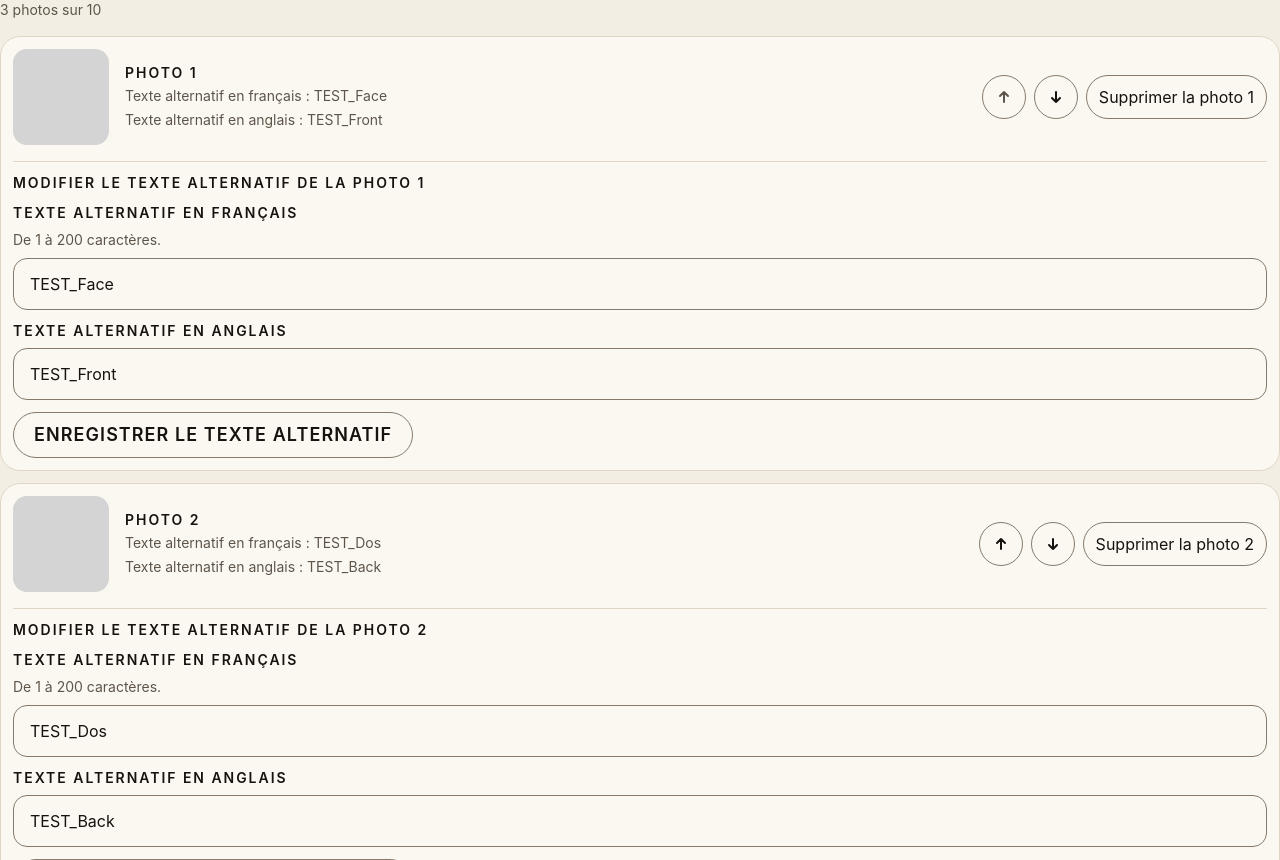
Test case: suppression d'une photo › ouvre la confirmation ; Annuler ferme sans rien supprimer
Click the button "Supprimer la photo 2".
click(1175, 544)  # box [1083, 522, 1267, 566]
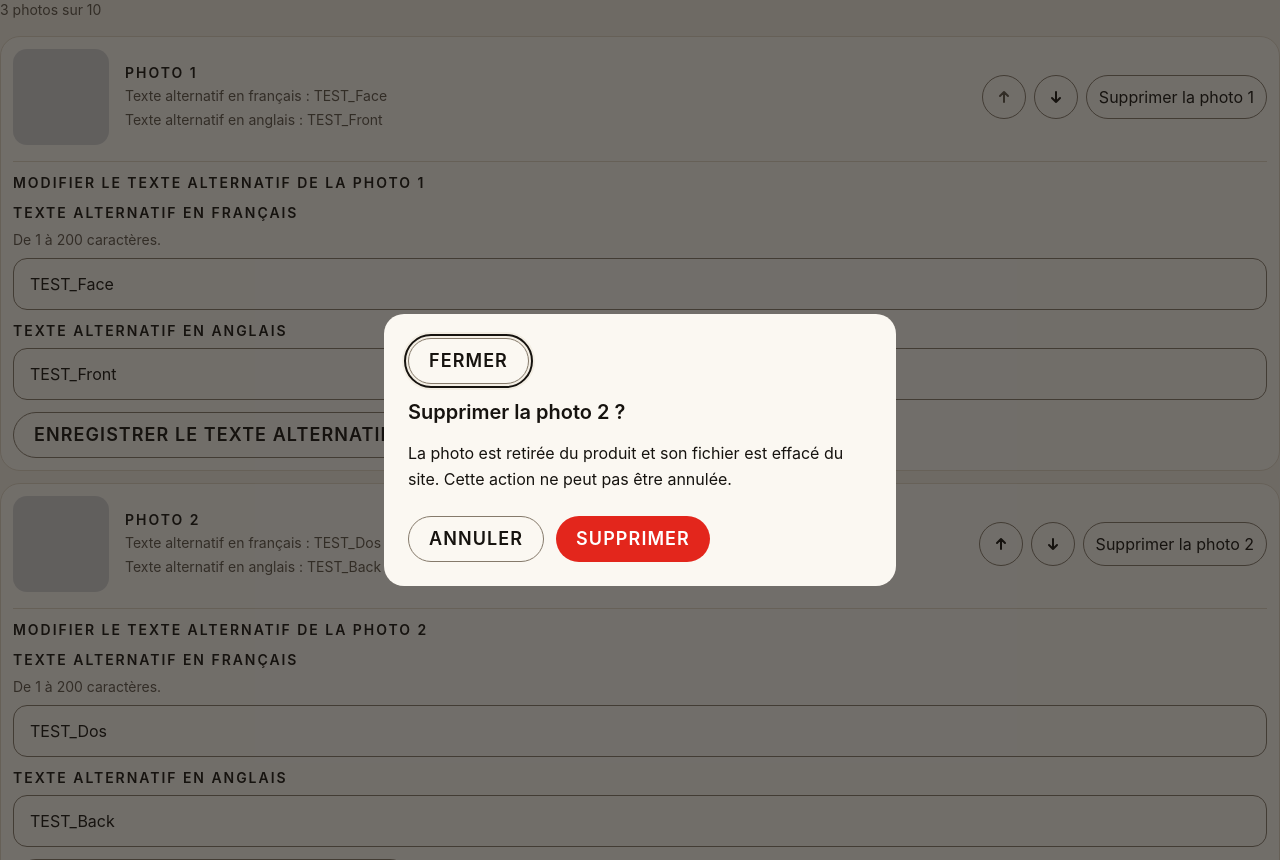
Check: the button "Supprimer" is shown, box [556, 516, 710, 562]
Click the button "Annuler".
click(476, 539)  # box [408, 516, 544, 562]
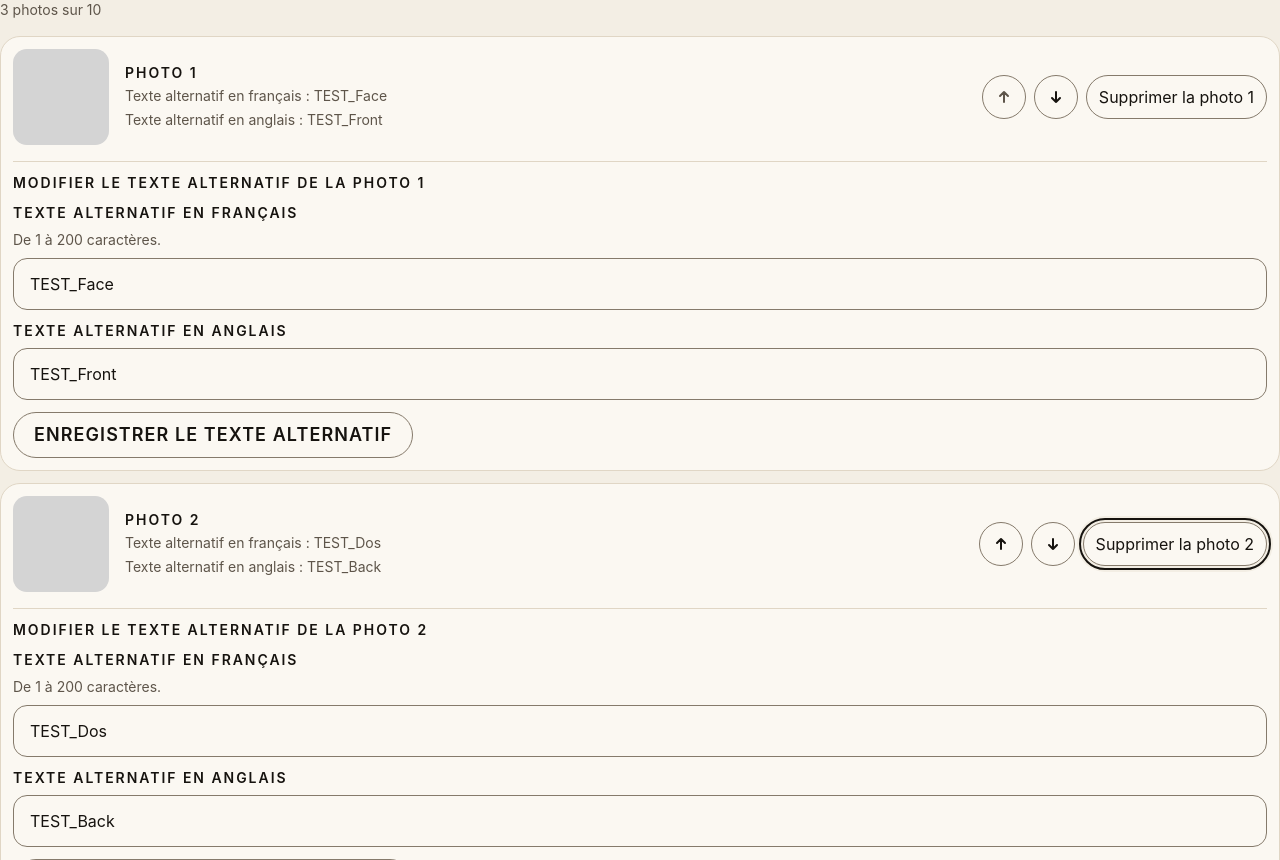
Check: the dialog is gone
